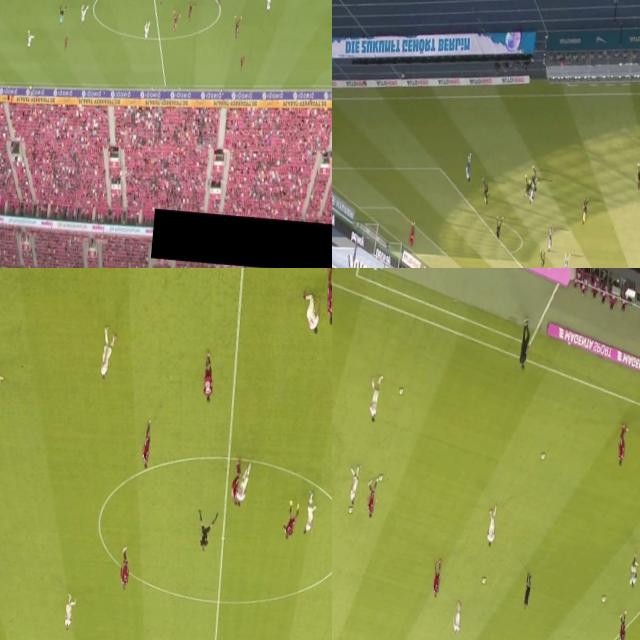ball: (346, 504, 356, 517), (601, 593, 608, 605), (540, 450, 545, 462), (378, 472, 383, 484), (481, 576, 486, 586), (398, 388, 403, 398), (528, 178, 532, 185), (308, 498, 312, 504)
player: (95, 328, 116, 384), (298, 292, 321, 342), (200, 351, 217, 406), (280, 498, 300, 544), (234, 458, 252, 508), (300, 492, 316, 538), (138, 426, 154, 469), (229, 458, 242, 508), (117, 547, 131, 592), (371, 370, 383, 422), (486, 500, 498, 547), (616, 423, 628, 468), (323, 268, 332, 327), (61, 596, 76, 631), (349, 460, 360, 504), (367, 478, 378, 520), (452, 596, 462, 636), (628, 558, 640, 588), (464, 150, 474, 184), (432, 566, 443, 596), (618, 610, 629, 640), (406, 221, 416, 251), (480, 178, 490, 208), (493, 217, 503, 247), (528, 165, 538, 194), (232, 14, 242, 41), (142, 18, 150, 44), (528, 180, 536, 206), (522, 176, 530, 200), (26, 29, 34, 52), (78, 4, 88, 22), (61, 34, 71, 52), (634, 163, 640, 193), (238, 52, 246, 74), (187, 0, 195, 21), (561, 251, 570, 268), (537, 249, 545, 268), (546, 226, 552, 250), (265, 0, 274, 13), (157, 0, 166, 6)
